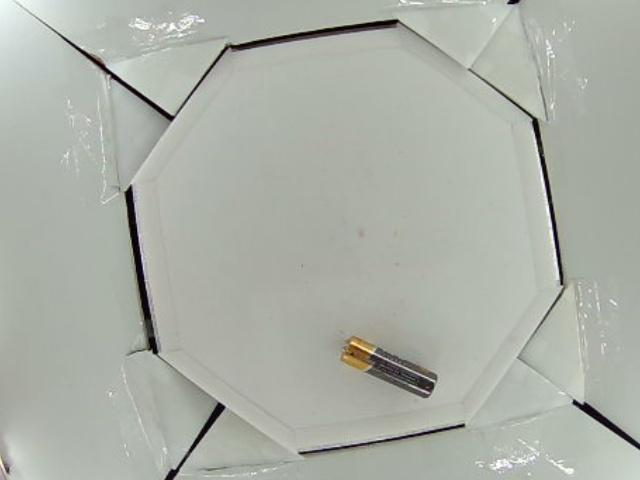Battery: (340, 335, 440, 397)
